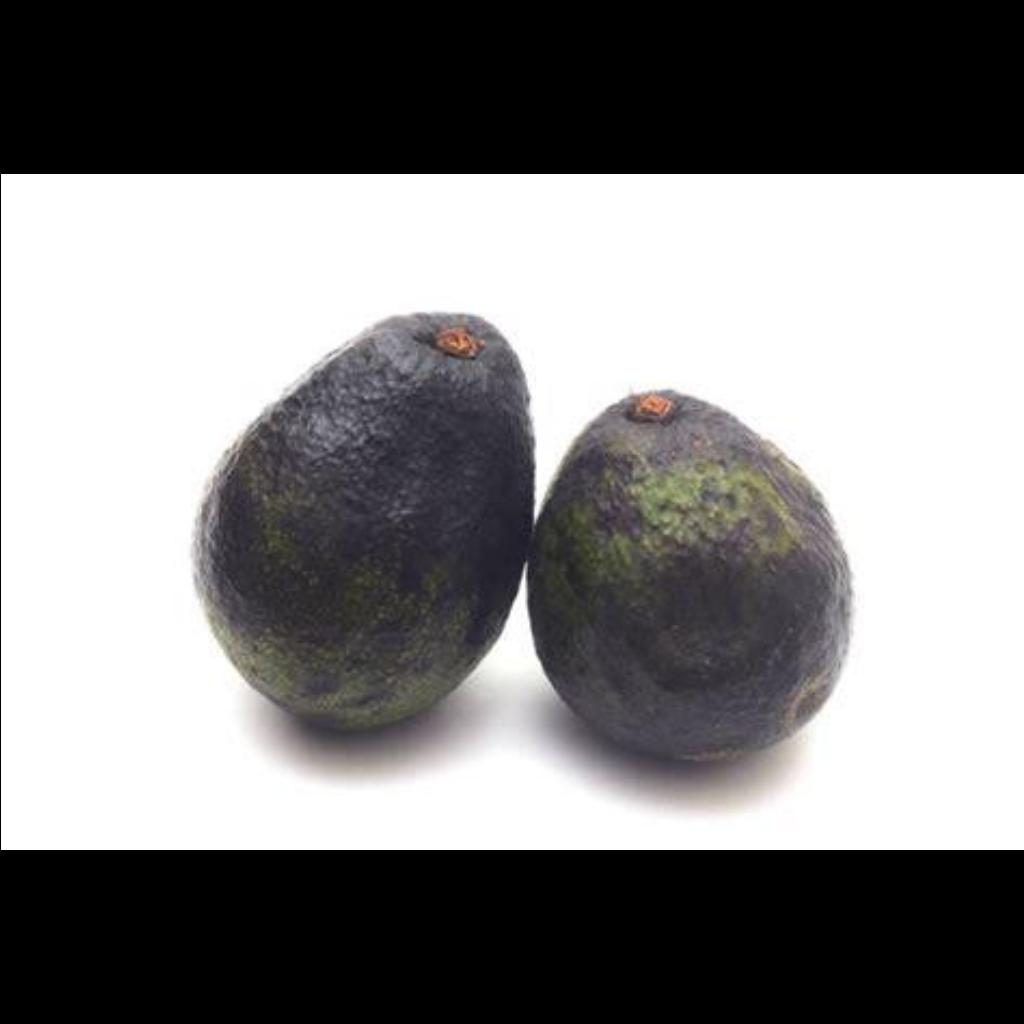antracnosis_fruto: (201, 306, 535, 738), (564, 354, 856, 766)
